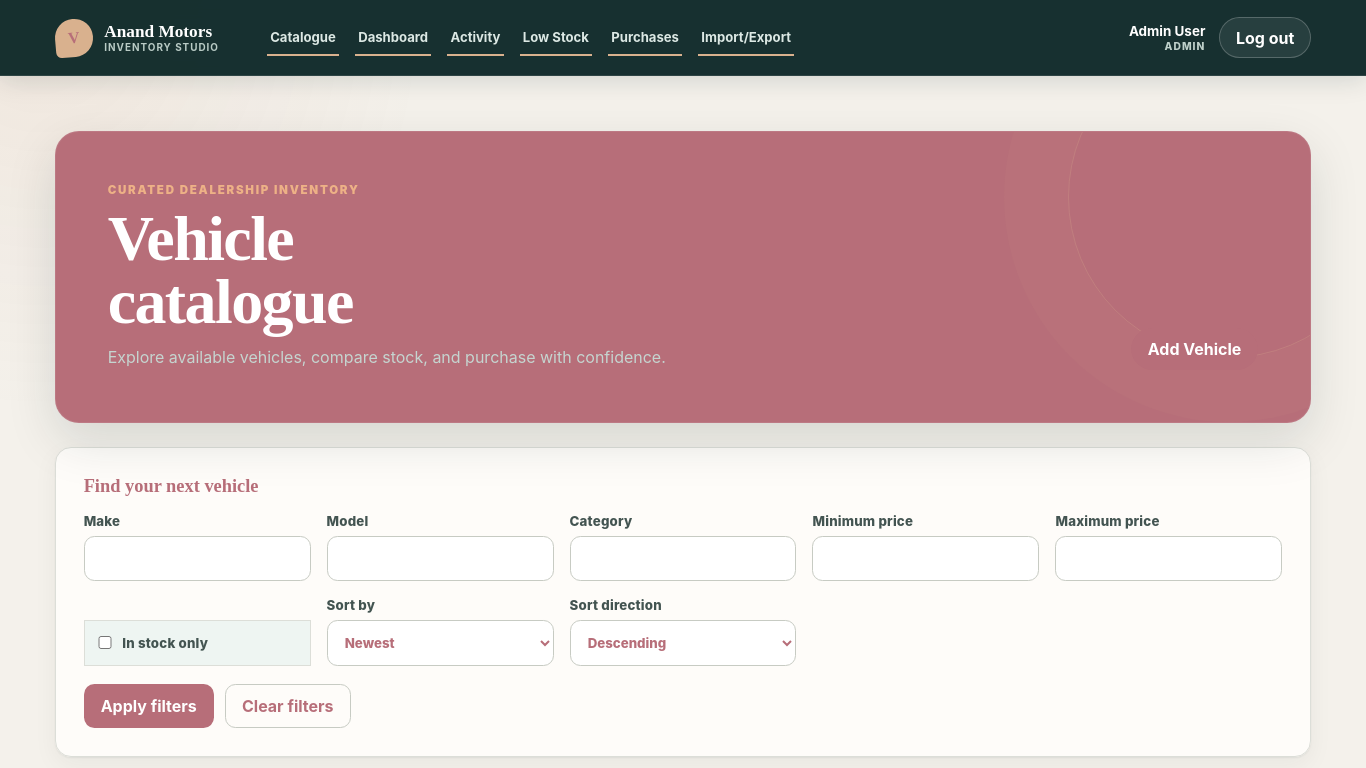
Test case: administrator vehicle creation › shows a safe backend validation error without closing the form
Click the button "Add Vehicle".
click(1195, 349)  # box [1131, 328, 1258, 370]
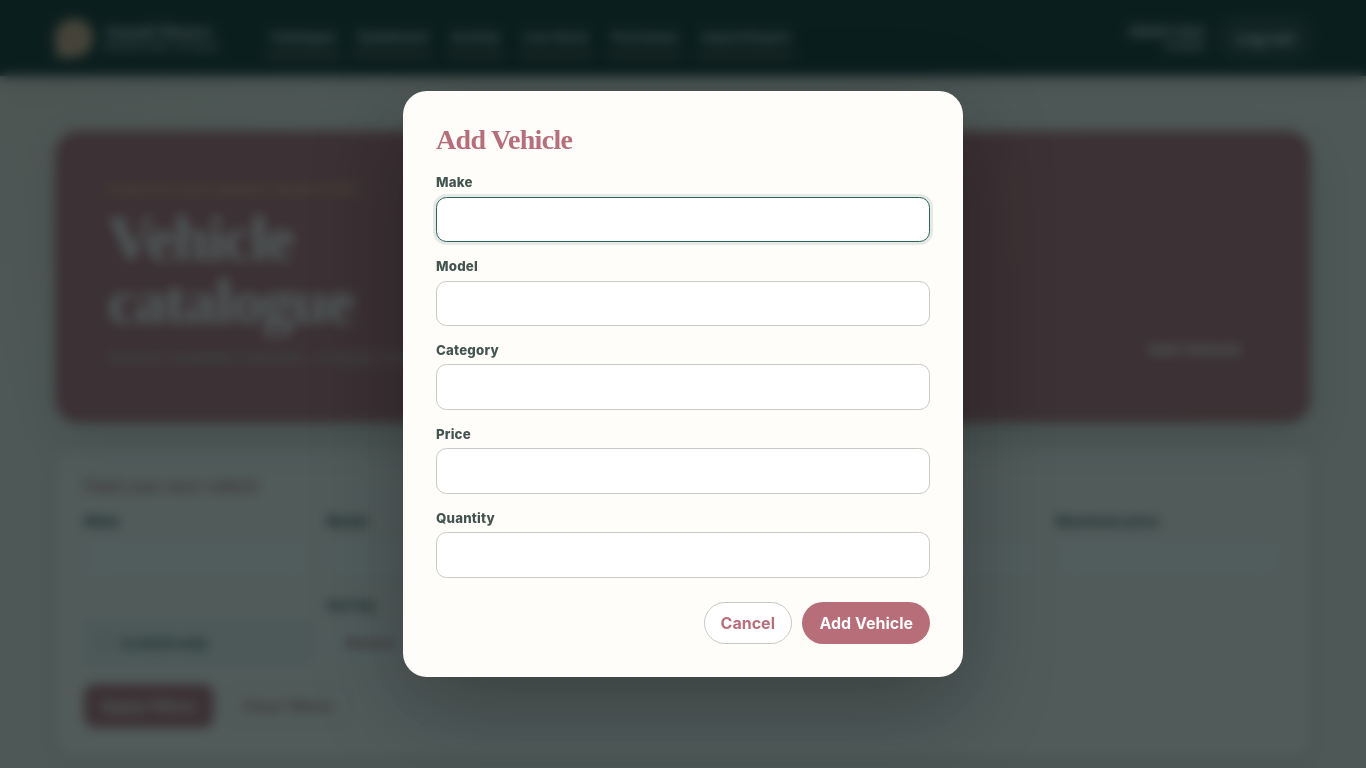
Type "Honda" into the field labelled "Make".
click(683, 219); type("Honda")  # box [436, 196, 930, 242]
Type "City" into the field labelled "Model".
click(683, 303); type("City")  # box [436, 280, 930, 326]
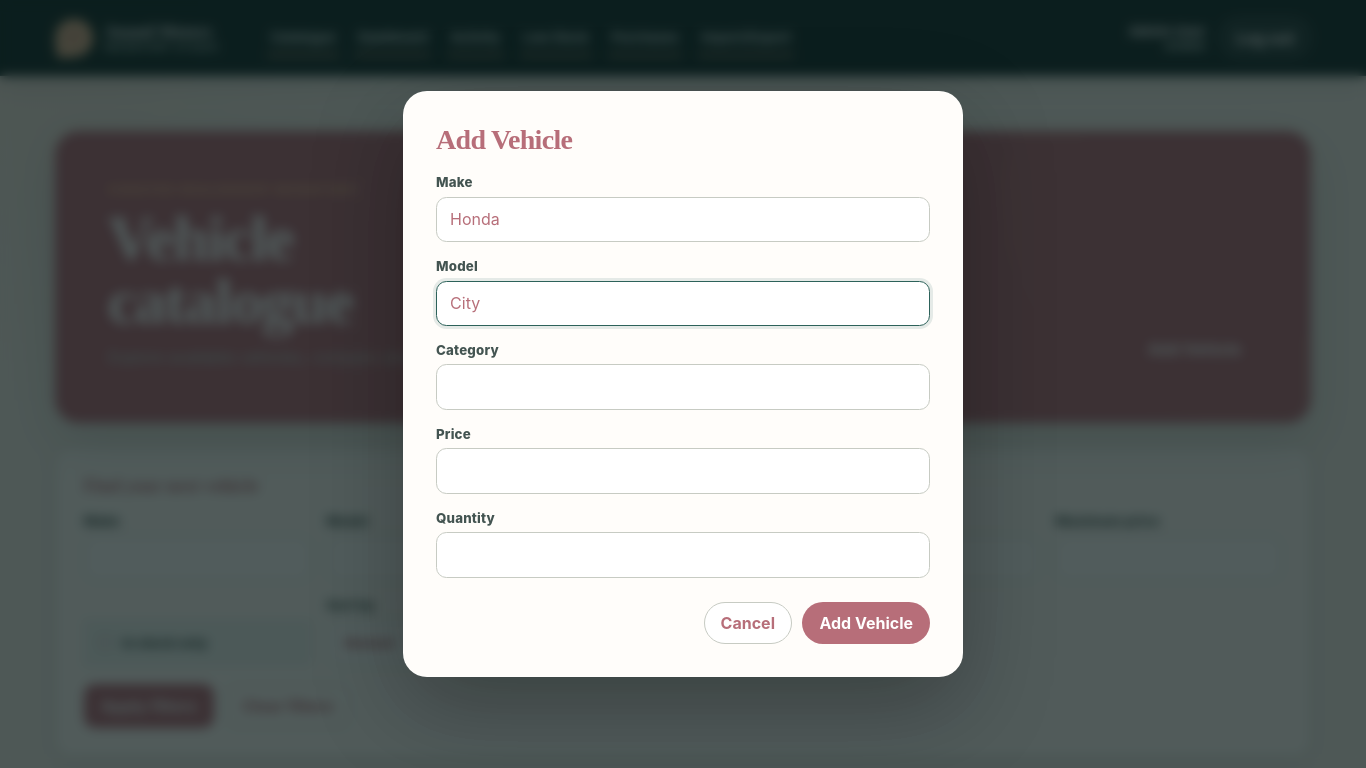
Type "Sedan" into the field labelled "Category".
click(683, 387); type("Sedan")  # box [436, 364, 930, 410]
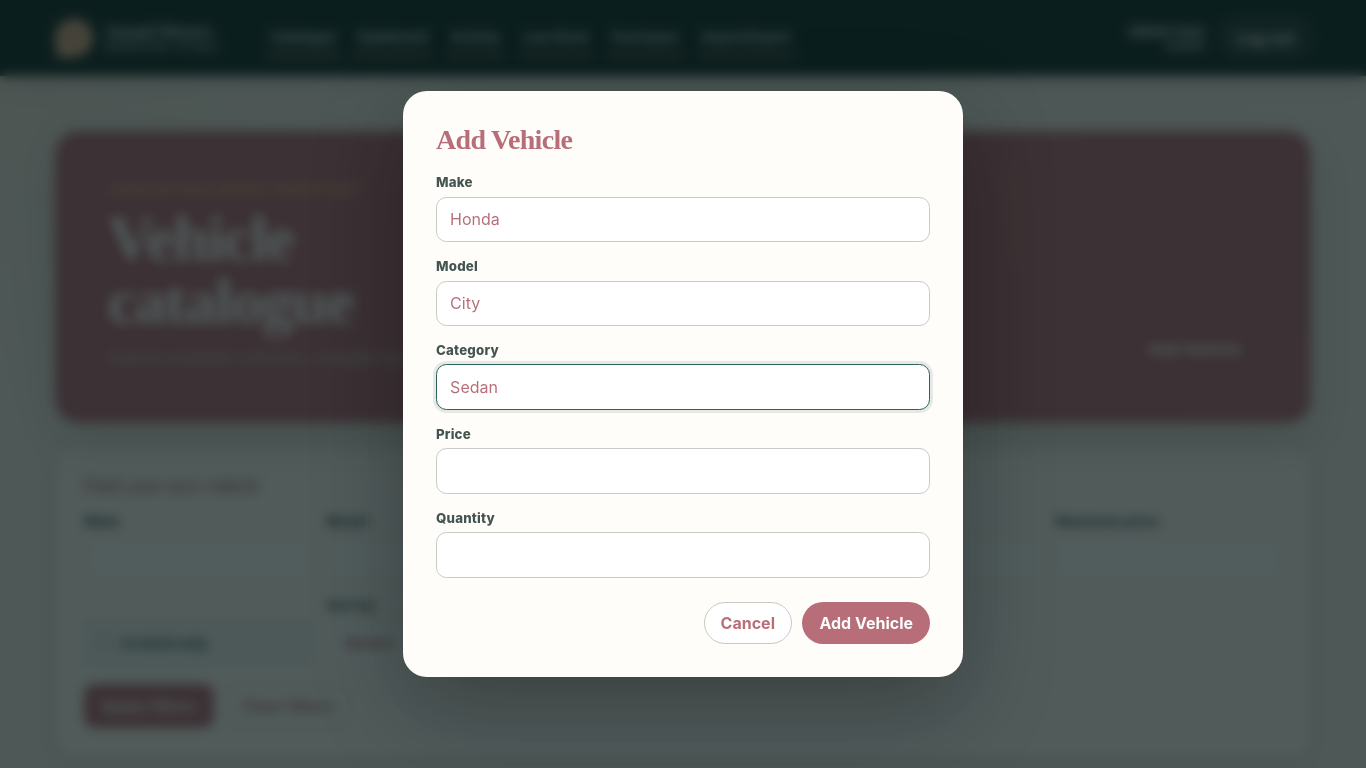
Type "1500000" into the number field labelled "Price".
click(683, 471); type("1500000")  # box [436, 448, 930, 494]
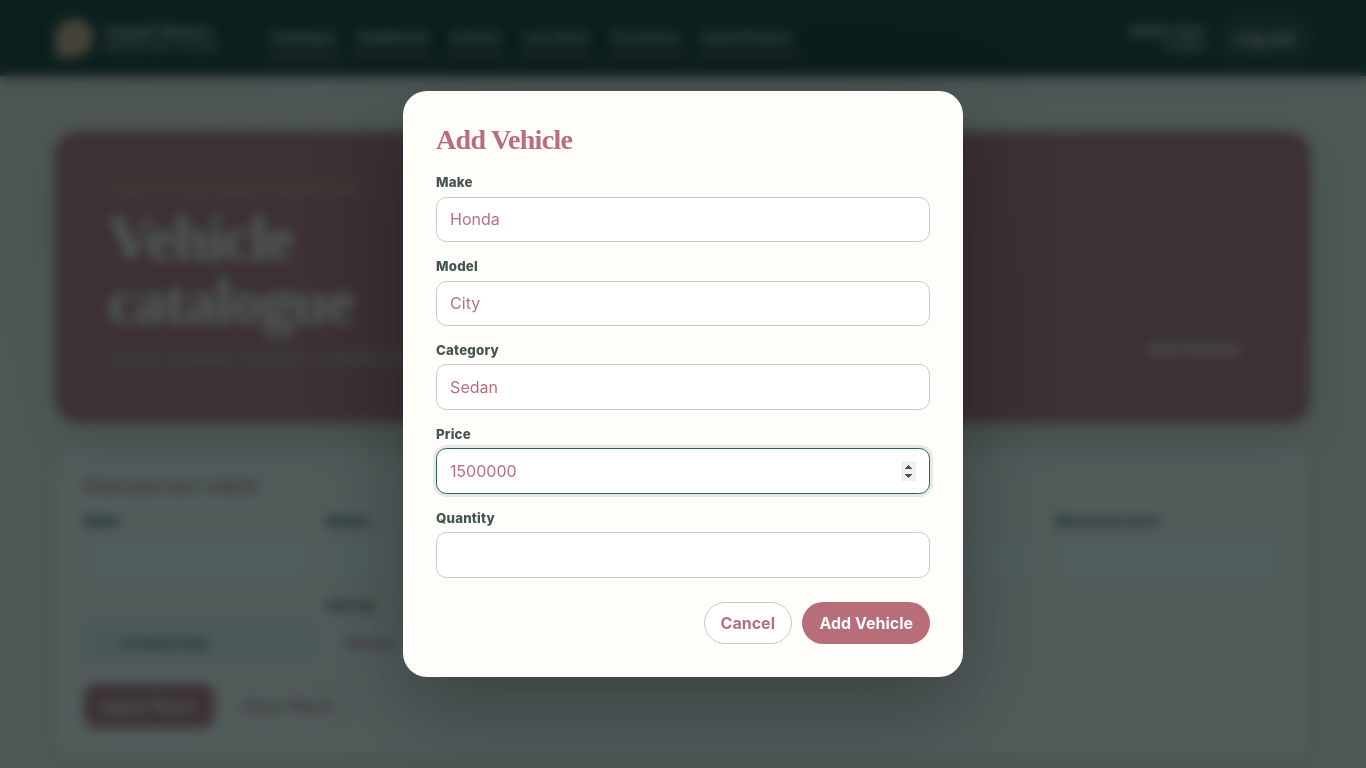
Type "4" into the number field labelled "Quantity".
click(683, 555); type("4")  # box [436, 532, 930, 578]
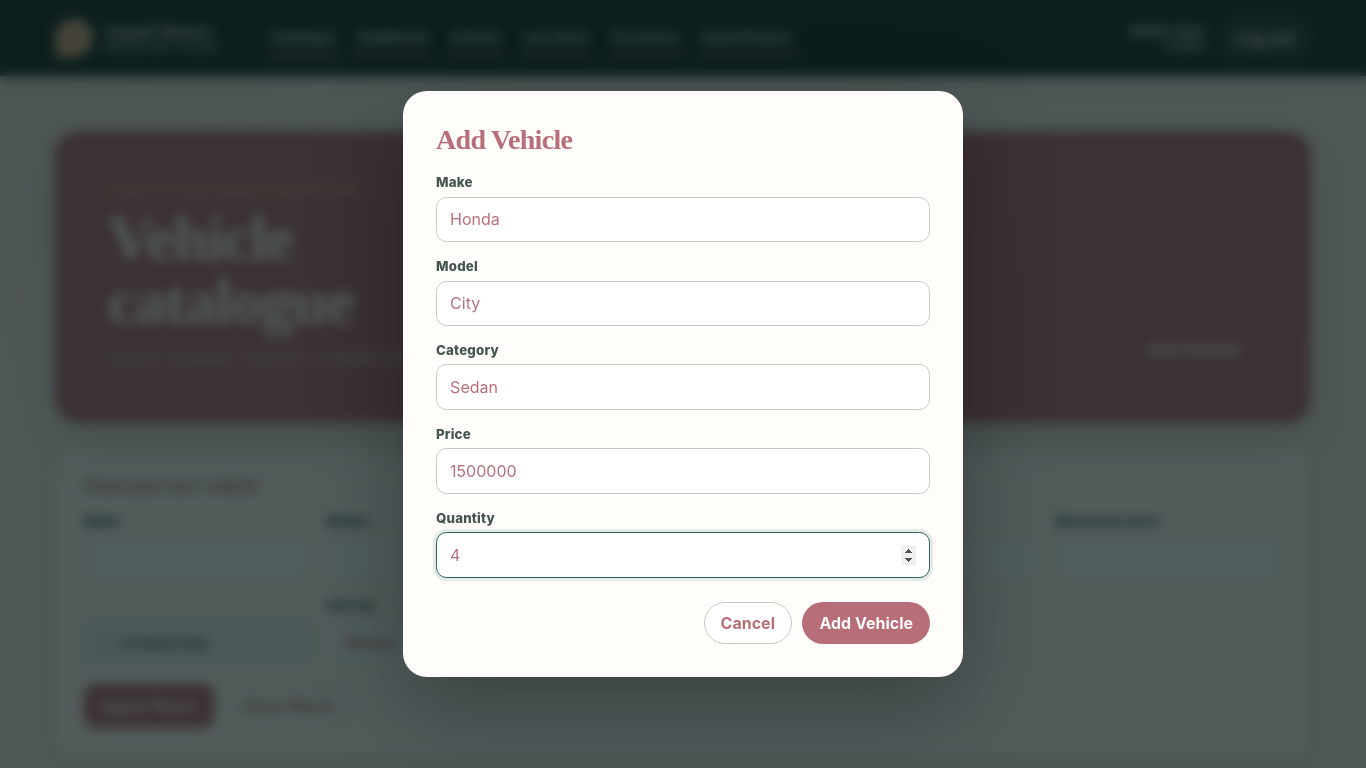
Click the button "Add Vehicle".
click(866, 623)  # box [802, 602, 930, 644]
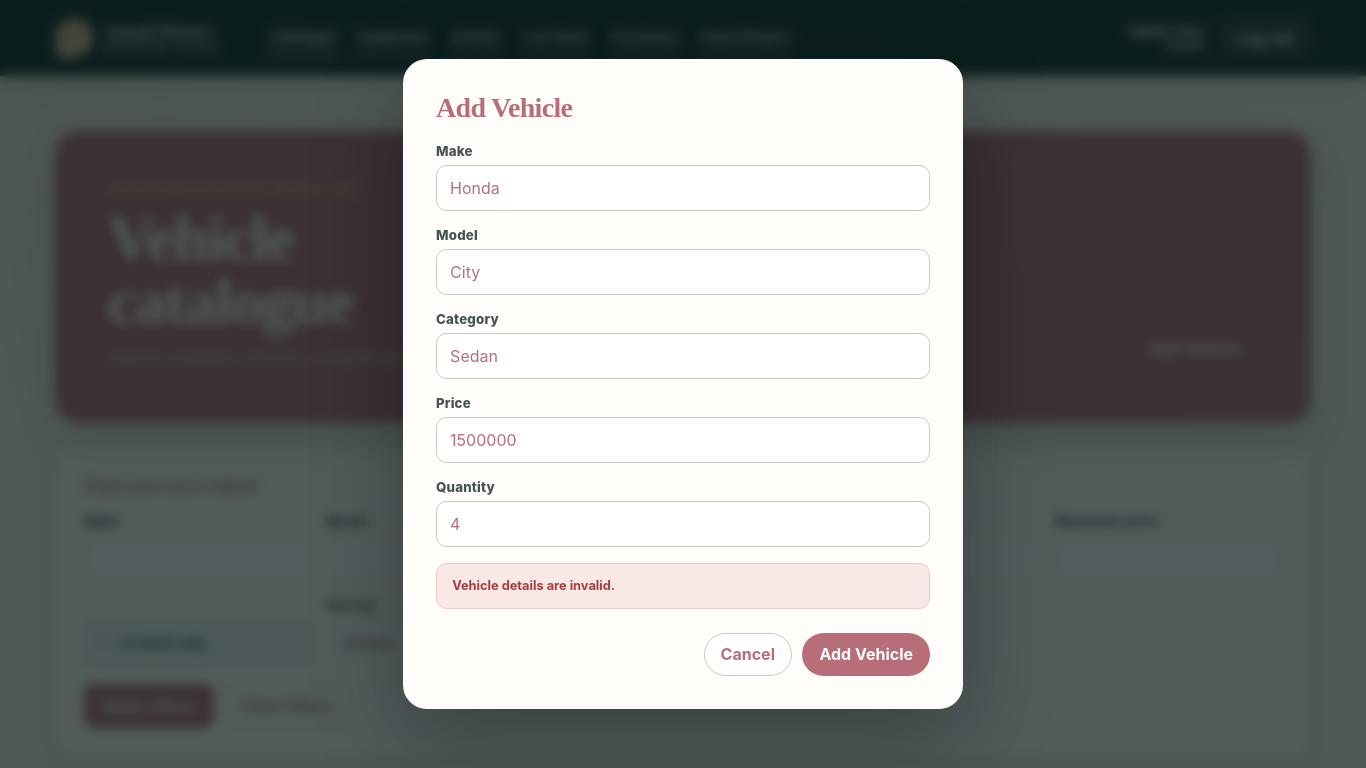
Check: the dialog "Add Vehicle" is shown, box [403, 60, 963, 708]
Check: the text "Vehicle details are invalid." is shown, box [436, 563, 930, 609]
